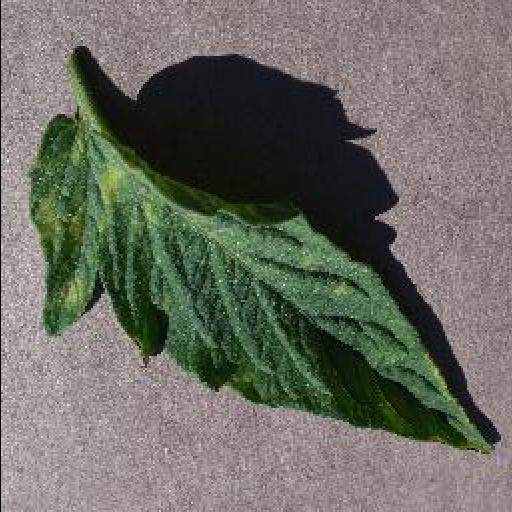disease_tomato: (28, 116, 494, 454)
